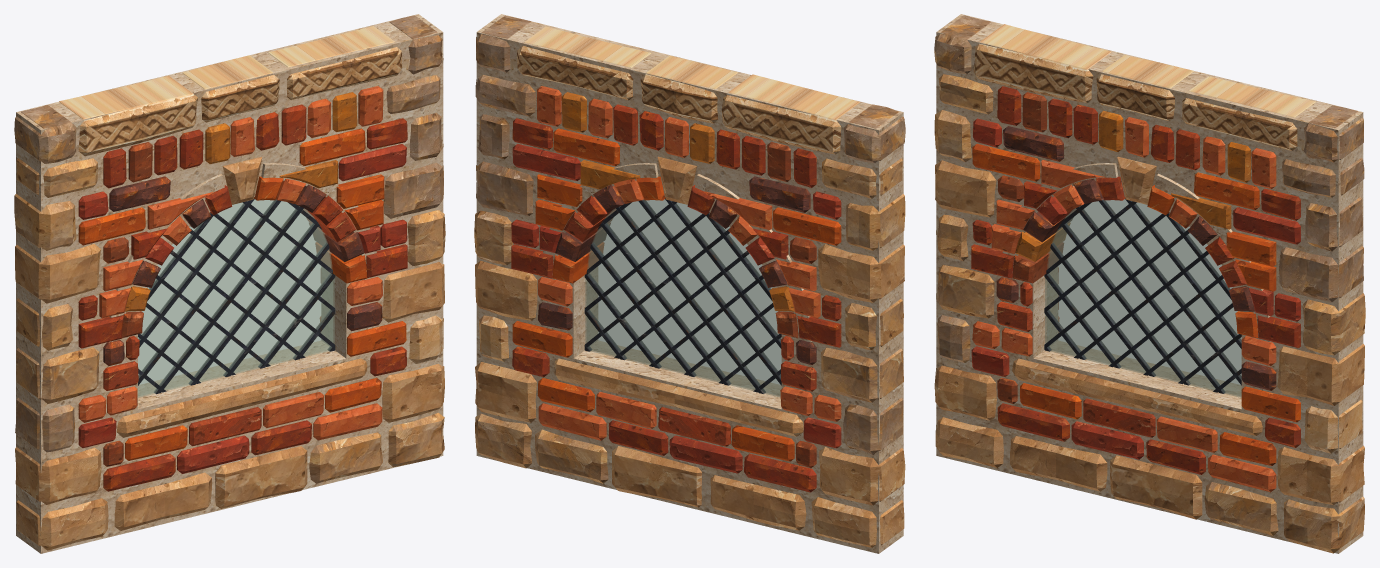
File: window_wall__clay_brick.glb
3 views of the same model, side by side, from view 1: azimuth 30°, elevation 25°; view 2: azimuth 150°, elevation 25°; view 3: azimuth 330°, elevation 25° (orthographic).
Visible parts, largest first — view 1: model; view 2: model; view 3: model.
Part boxes in pixels (x1,y1,x2,y2): model: [14, 14, 445, 553]; model: [474, 14, 905, 553]; model: [934, 14, 1365, 553].
Bounding box in the file's own units: 1.98 × 1.98 × 0.2871.
16 materials, 15 textured.
